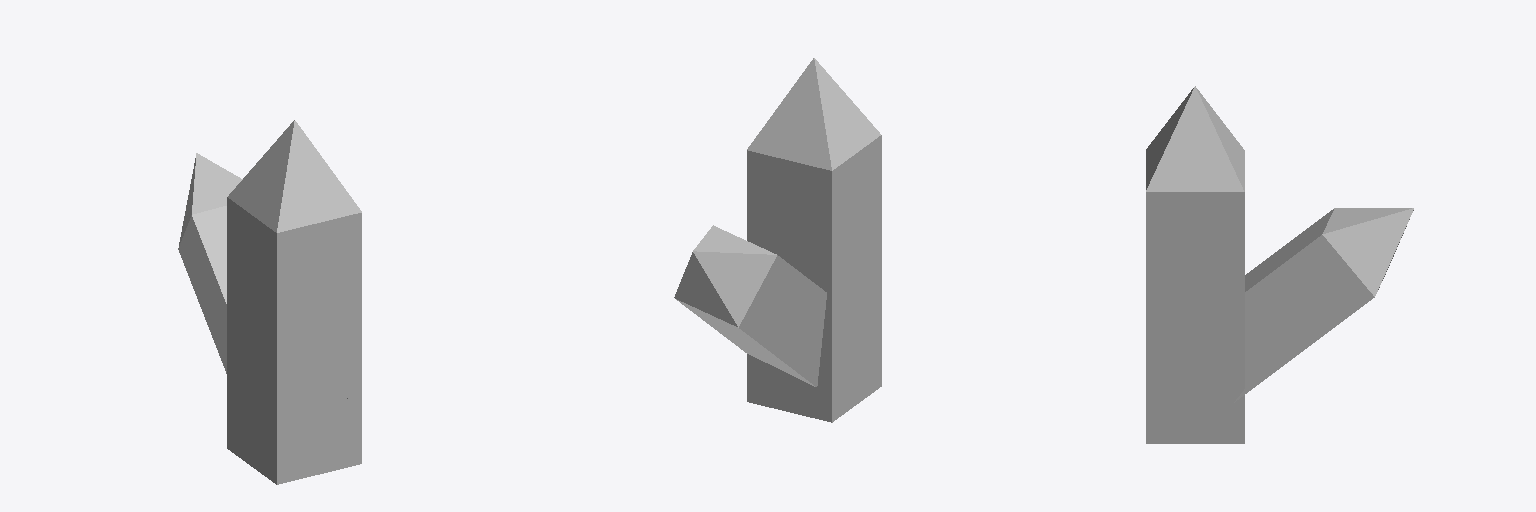
Rendered from double_vis_crystal_block.obj.
3 views of the same model, side by side, from view 1: azimuth 30°, elevation 25°; view 2: azimuth 150°, elevation 25°; view 3: azimuth 270°, elevation 25° (orthographic).
Visible parts, largest first — view 1: Cube.001, Cube.002; view 2: Cube.001, Cube.002; view 3: Cube.001, Cube.002.
Part boxes in pixels (bbox=[...]): Cube.001: bbox=[227, 120, 361, 484]; Cube.002: bbox=[178, 153, 347, 398]; Cube.001: bbox=[747, 58, 881, 422]; Cube.002: bbox=[674, 225, 826, 386]; Cube.001: bbox=[1146, 86, 1244, 443]; Cube.002: bbox=[1234, 208, 1413, 402].
Size of the model in its own units: 0.2205 by 0.7635 by 0.5533.